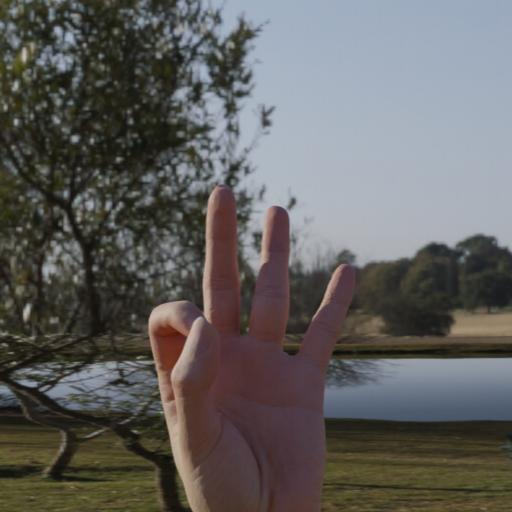F: (133, 172, 378, 512)
